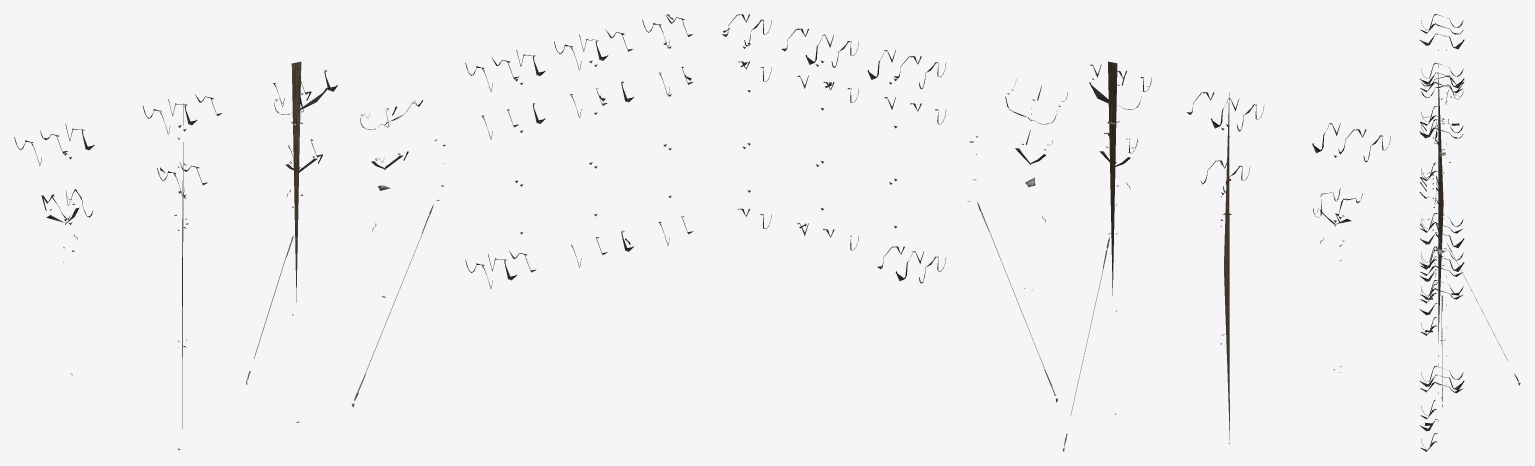
The picture shows the model from 3 angles, left to right: view 1: azimuth 30°, elevation 25°; view 2: azimuth 150°, elevation 25°; view 3: azimuth 270°, elevation 25°; orthographic projection. The views are drawn at different scales.
Visible parts, largest first — view 1: bolt_large.001, bolt_large; view 2: bolt_large.001, bolt_large; view 3: bolt_large.001, bolt_large.
Boxes of the visible parts, left/top/right/bottom form: bolt_large.001: left=14, top=14, right=693, bottom=449; bolt_large: left=182, top=61, right=301, bottom=428; bolt_large.001: left=722, top=14, right=1390, bottom=451; bolt_large: left=1108, top=61, right=1229, bottom=440; bolt_large.001: left=1419, top=14, right=1520, bottom=451; bolt_large: left=1438, top=63, right=1443, bottom=340.
Size of the model in its own units: 11.46 by 6.02 by 1.98.
2 materials, 2 textured.
